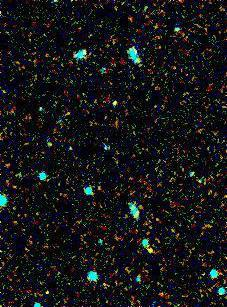star: (136, 234, 166, 264)
